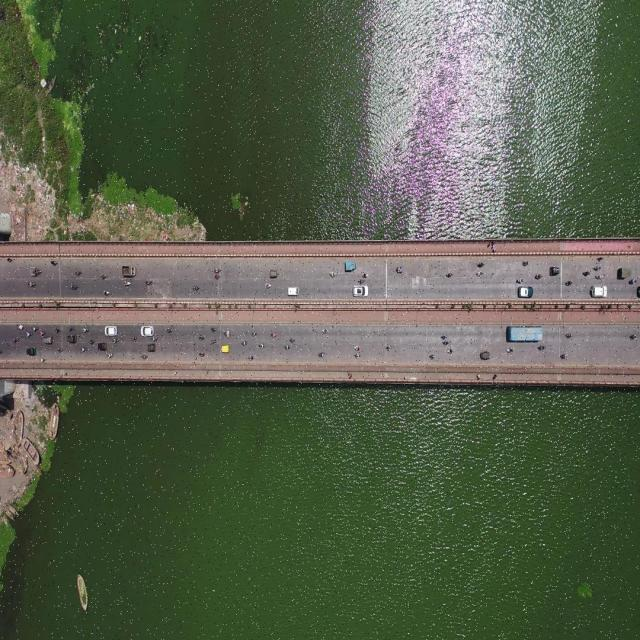3W: (67, 333, 80, 346), (478, 348, 491, 361), (30, 263, 42, 276), (549, 264, 560, 278), (220, 343, 230, 356), (26, 346, 38, 356), (98, 342, 110, 352), (146, 342, 156, 354), (43, 334, 53, 344), (269, 270, 280, 279)
Bus: (505, 321, 544, 343)
Cars: (590, 280, 608, 302), (352, 283, 370, 298), (286, 285, 302, 300), (514, 286, 534, 298), (104, 322, 118, 337), (141, 323, 155, 337)
M2W: (165, 322, 176, 338), (395, 263, 407, 276), (197, 346, 207, 359), (505, 345, 515, 358), (565, 329, 575, 342), (100, 268, 109, 282), (628, 276, 638, 288), (120, 279, 133, 288), (445, 348, 458, 357), (521, 258, 530, 271), (564, 275, 573, 288), (560, 349, 569, 362), (50, 257, 60, 268), (193, 282, 202, 294), (352, 339, 361, 351), (382, 343, 394, 352), (74, 268, 84, 278), (69, 282, 79, 292), (140, 351, 150, 361), (263, 281, 273, 291), (426, 351, 436, 361), (532, 271, 543, 280), (631, 332, 640, 343), (250, 327, 258, 339), (582, 268, 590, 280), (538, 342, 546, 354), (16, 321, 25, 331), (64, 324, 74, 333), (214, 273, 224, 282), (322, 324, 331, 334), (441, 339, 451, 348), (474, 270, 484, 279), (516, 277, 526, 286), (594, 271, 604, 280), (39, 356, 48, 366), (222, 328, 231, 338), (56, 344, 64, 355), (271, 327, 278, 339), (4, 258, 16, 265), (595, 254, 604, 263), (24, 330, 34, 338), (210, 324, 218, 334), (198, 333, 206, 343), (240, 338, 248, 348), (246, 353, 254, 363), (362, 270, 370, 280), (350, 353, 363, 359), (477, 260, 488, 267), (328, 270, 337, 278), (27, 282, 37, 289), (446, 269, 452, 280), (82, 325, 91, 332), (358, 277, 367, 284), (440, 334, 449, 341), (12, 334, 18, 344), (213, 267, 223, 273), (290, 334, 296, 344), (284, 342, 290, 352), (102, 289, 110, 296), (258, 343, 266, 350), (144, 279, 153, 285), (593, 264, 602, 270), (80, 346, 87, 353), (89, 337, 96, 344), (106, 349, 113, 356), (210, 337, 217, 344), (317, 351, 324, 358), (113, 336, 119, 344), (150, 336, 158, 342), (55, 327, 62, 333), (132, 335, 138, 341), (32, 326, 39, 331), (38, 331, 44, 336)
Truck: (342, 257, 358, 274), (123, 262, 137, 278), (618, 264, 632, 280)
